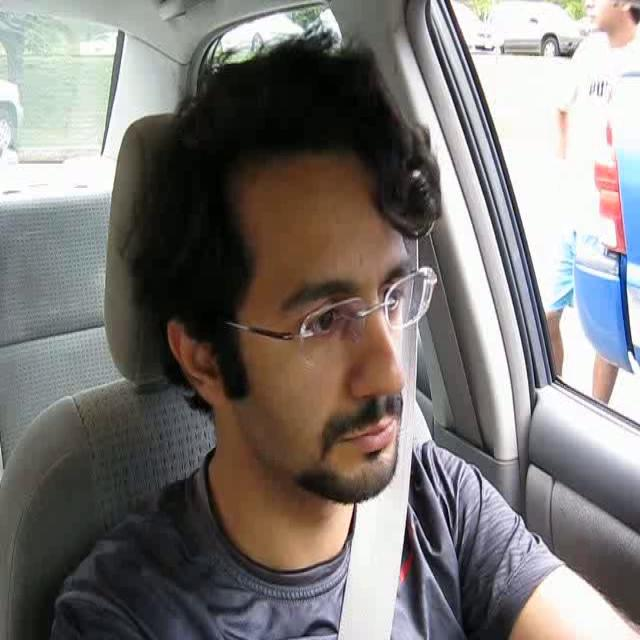close: (338, 409, 396, 454)
